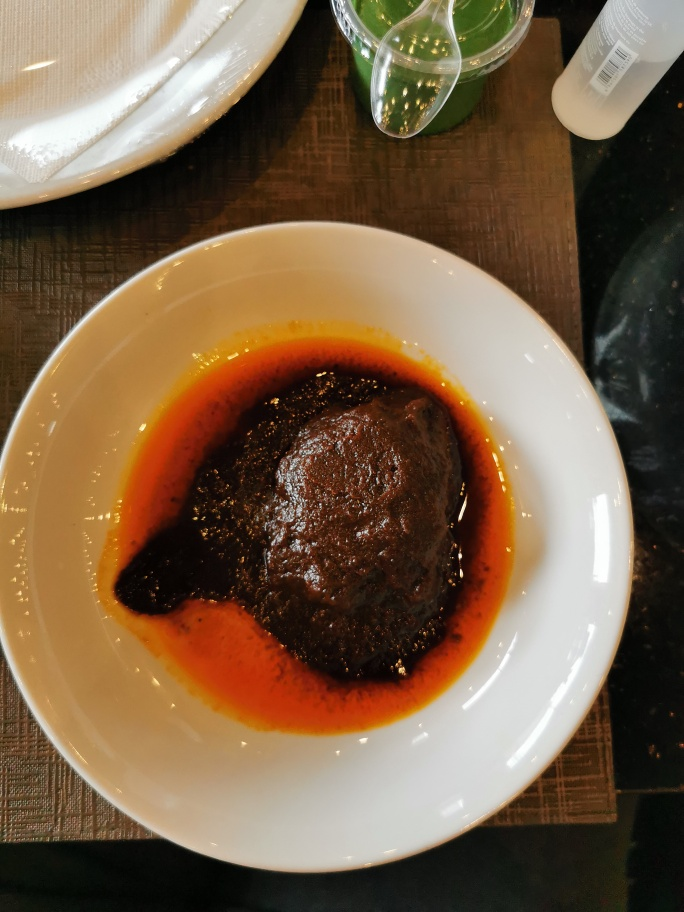rendang: (193, 361, 488, 675)
